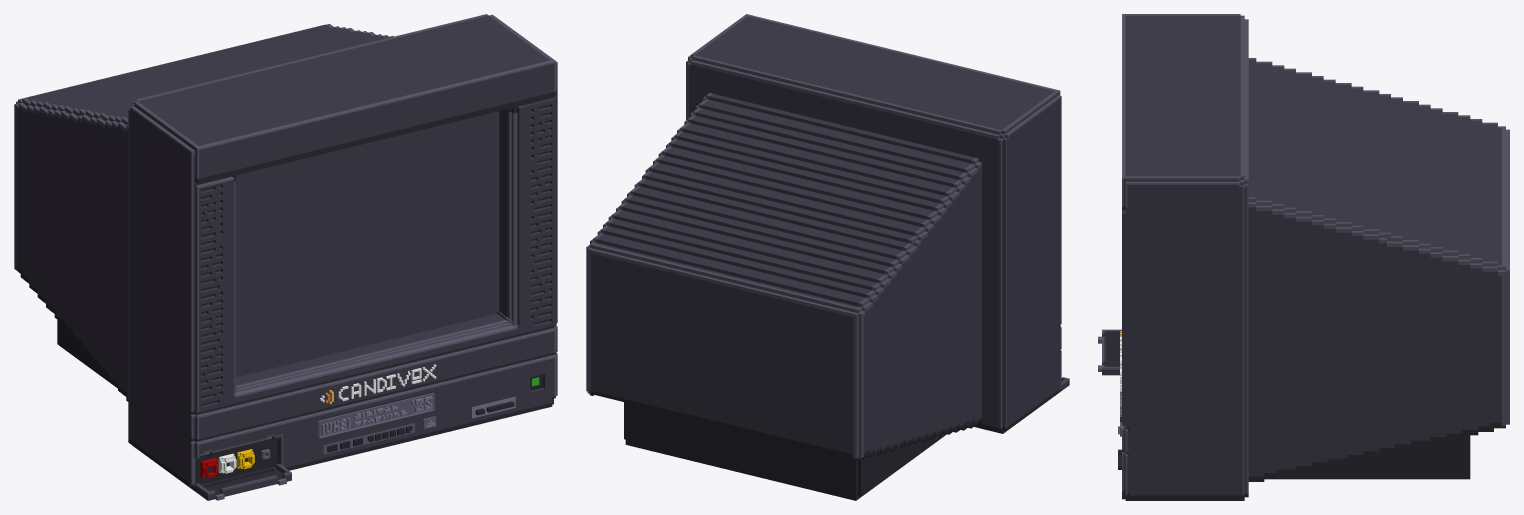
Rendered from bedroom-desk-view-television-14-television.obj.
3 renders of one model, left to right at view 1: azimuth 30°, elevation 25°; view 2: azimuth 150°, elevation 25°; view 3: azimuth 270°, elevation 25°, orthographic. The views are drawn at different scales.
Visible parts, largest first — view 1: television; view 2: television; view 3: television.
Part boxes in pixels (x1,y1,x2,y2): television: [14, 14, 557, 500]; television: [586, 14, 1069, 500]; television: [1098, 14, 1509, 500].
Size of the model in its own units: 20 by 18 by 20.8.
1 material, 1 textured.
